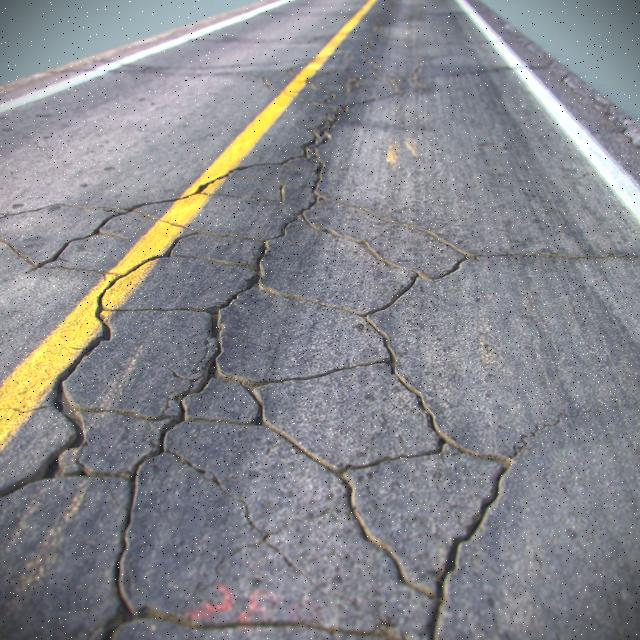Crack: (99, 130, 388, 640), (362, 274, 517, 640), (0, 230, 197, 502), (23, 155, 302, 275), (338, 439, 447, 599)
